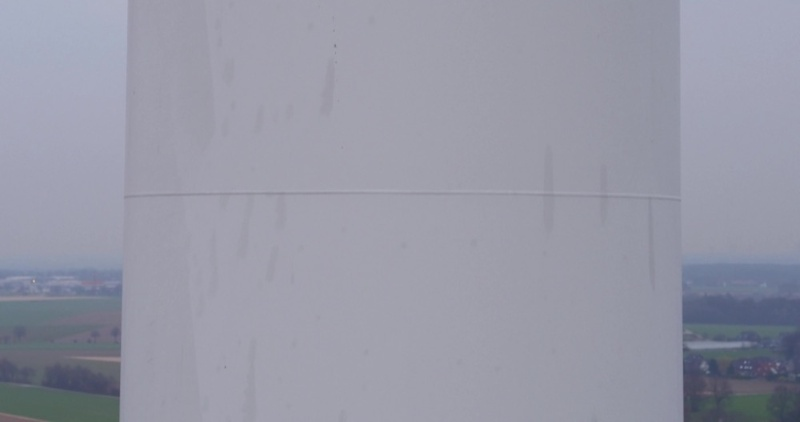weldseam: (121, 183, 685, 211)
